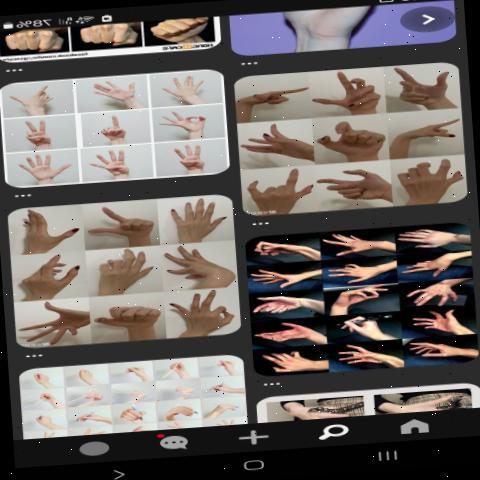Hands: (162, 189, 236, 245), (85, 241, 156, 290), (398, 250, 478, 281), (15, 148, 69, 193), (323, 261, 406, 287), (319, 230, 390, 260), (404, 280, 474, 309), (332, 342, 400, 370), (248, 291, 317, 318), (394, 223, 468, 248), (260, 344, 325, 370), (404, 336, 473, 360), (250, 325, 324, 346)
